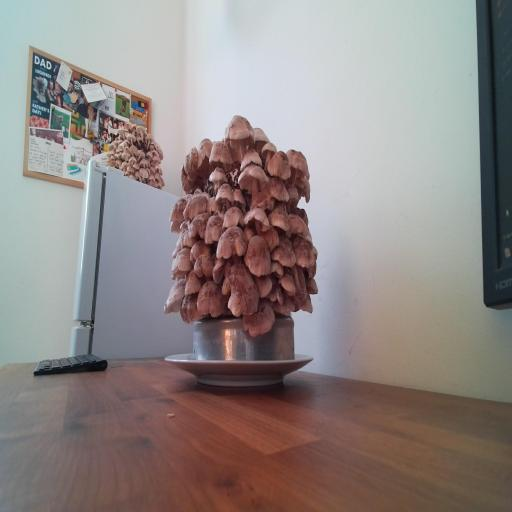Shiitake Mushroom: (210, 251, 272, 334), (230, 291, 288, 348), (216, 104, 264, 166), (227, 152, 280, 205), (281, 231, 327, 276), (159, 270, 193, 325), (235, 199, 280, 239), (174, 187, 216, 224), (260, 171, 298, 209), (204, 247, 237, 288), (254, 216, 287, 257), (196, 279, 230, 318), (216, 223, 248, 263), (243, 122, 275, 158), (167, 244, 196, 283), (274, 265, 304, 302), (244, 235, 271, 276), (211, 177, 240, 215), (179, 267, 207, 306), (288, 260, 311, 307), (253, 134, 282, 170), (270, 233, 298, 269), (286, 144, 310, 186), (183, 235, 217, 264), (208, 137, 235, 171), (205, 161, 231, 195), (267, 147, 293, 180), (172, 165, 198, 196), (265, 276, 289, 309), (287, 199, 315, 227), (248, 186, 277, 213), (168, 190, 189, 227), (272, 287, 297, 316), (187, 211, 211, 241), (182, 143, 200, 182), (268, 200, 290, 231), (295, 294, 320, 321), (197, 136, 213, 175), (220, 205, 246, 228), (184, 291, 202, 324), (204, 213, 223, 244), (286, 213, 311, 236), (265, 257, 290, 279), (193, 253, 215, 277), (180, 227, 200, 253), (241, 218, 259, 243), (253, 275, 273, 297), (204, 192, 222, 216), (295, 175, 311, 202), (285, 181, 300, 209), (231, 185, 247, 208), (305, 259, 321, 281), (179, 295, 190, 324), (306, 277, 319, 294), (170, 220, 182, 233)
